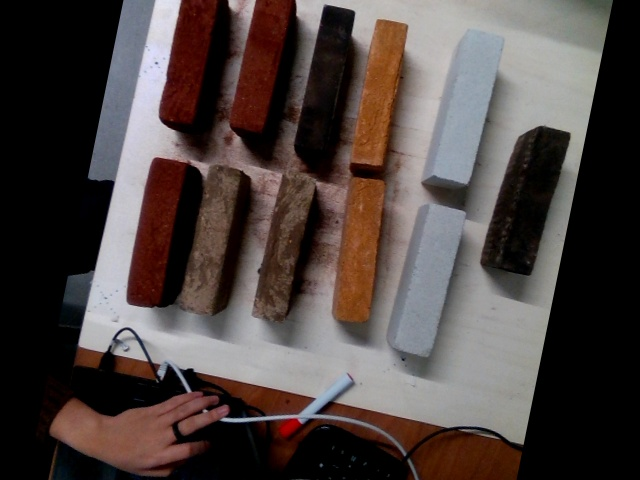brick-side: (494, 124, 571, 276), (393, 203, 466, 355), (432, 31, 503, 183), (180, 164, 243, 315), (292, 2, 354, 153), (127, 155, 186, 307), (329, 174, 388, 326), (254, 172, 312, 317), (353, 20, 405, 164)
